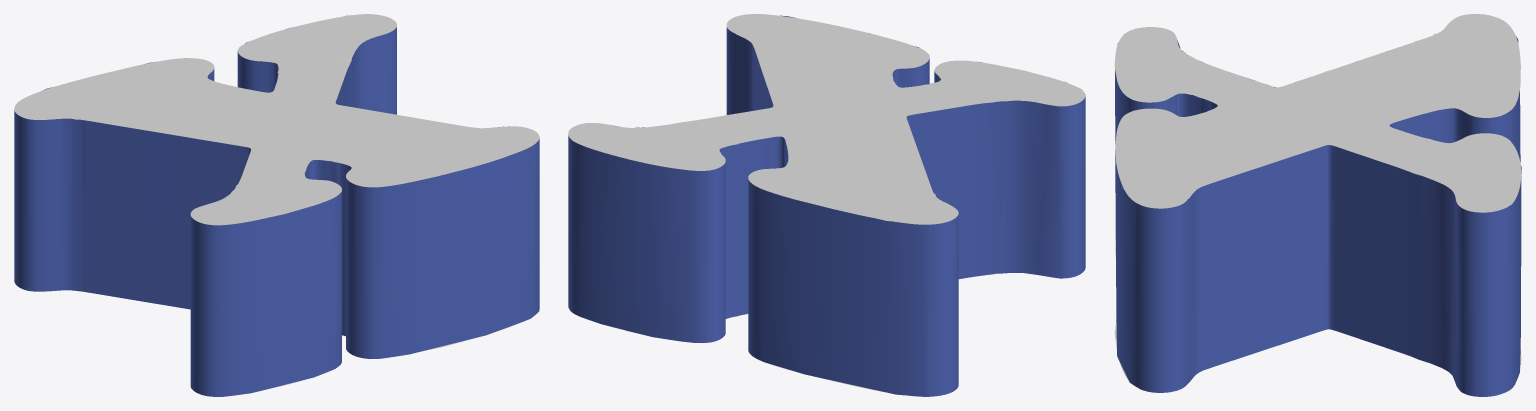
3 renders of one model, left to right at view 1: azimuth 30°, elevation 25°; view 2: azimuth 150°, elevation 25°; view 3: azimuth 270°, elevation 25°, orthographic. The views are drawn at different scales.
Parts seen in each view (by area): view 1: X; view 2: X; view 3: X.
Part boxes in pixels (<box>): X: <box>14,14,539,396</box>; X: <box>568,14,1085,396</box>; X: <box>1114,14,1521,396</box>.
Bounding box in the file's own units: 1.7 × 0.7361 × 1.47.
